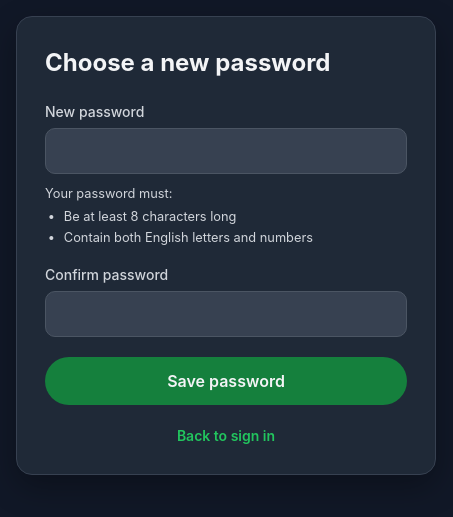
Test: ResetPasswordPage › shows the password rules the backend applies
Type "password" into the password field labelled "New password" at (226, 151), box [45,128,407,174]
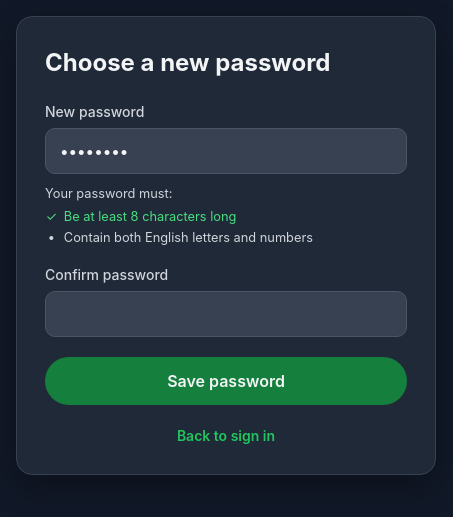
Type "password" into the password field labelled "Confirm password" at (226, 314), box [45,291,407,337]
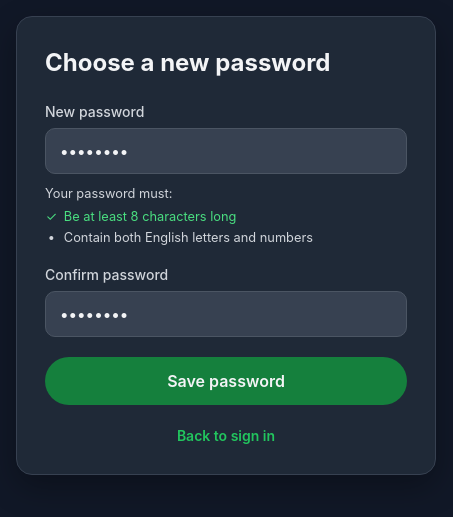
Click the button "Save password" at (226, 381), box [45,357,407,405]
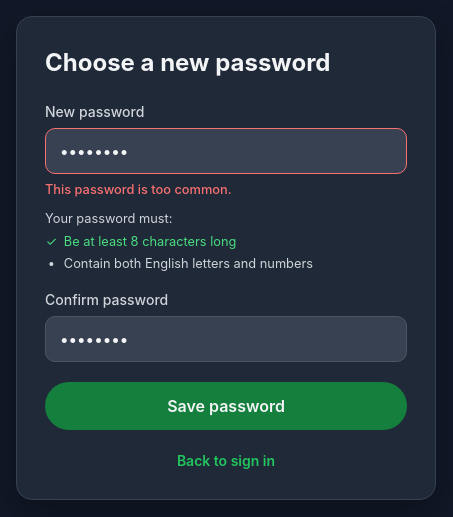
Check: the text "This password is too common." is shown, box [45,182,232,197]
